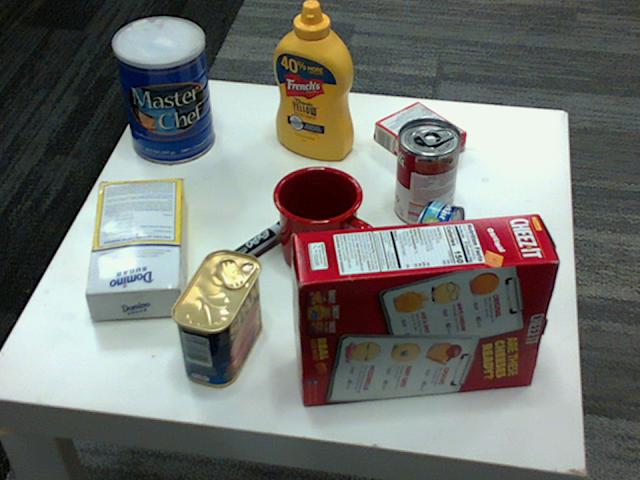cracker_box: (291, 211, 557, 403)
gelatin_box: (376, 102, 467, 170)
large_marker: (207, 214, 297, 284)
master_chef_can: (110, 17, 212, 164)
mug: (272, 163, 375, 272)
mustard_bottle: (272, 0, 352, 160)
potted_meat_can: (172, 249, 262, 387)
sugar_box: (85, 175, 185, 317)
tomato_soup_can: (393, 118, 459, 227)
tuna_fish_can: (406, 199, 464, 286)
